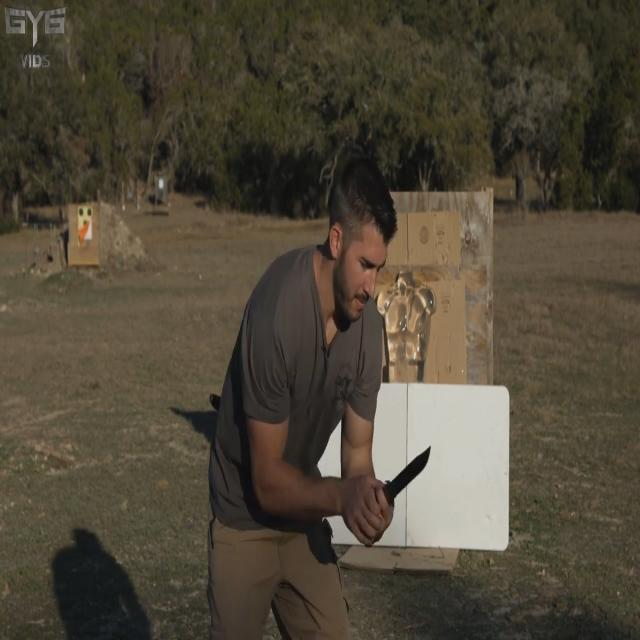knife: (390, 437, 434, 518)
